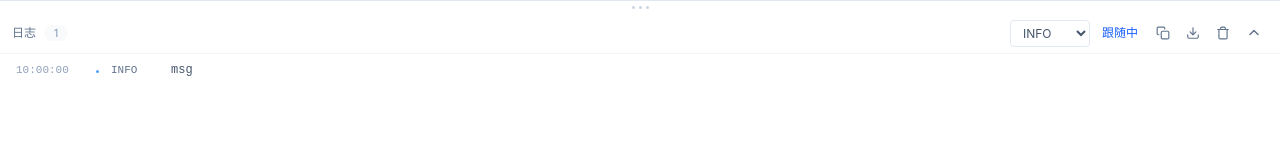
Scenario: LogPanel › can collapse and restore the log panel
Click the button named "折叠日志" at (1254, 33), box top-left (1240, 19), bottom-right (1268, 47)
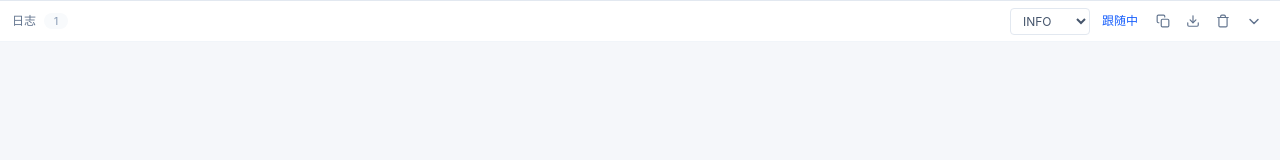
Click the button named "展开日志" at (1254, 21), box top-left (1240, 7), bottom-right (1268, 35)
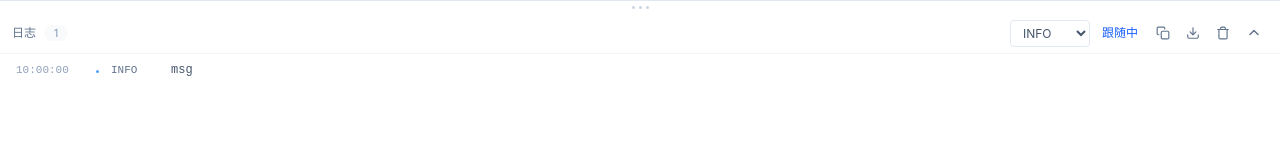
Now the element named "处理日志" is shown, box top-left (16, 63), bottom-right (193, 77)
